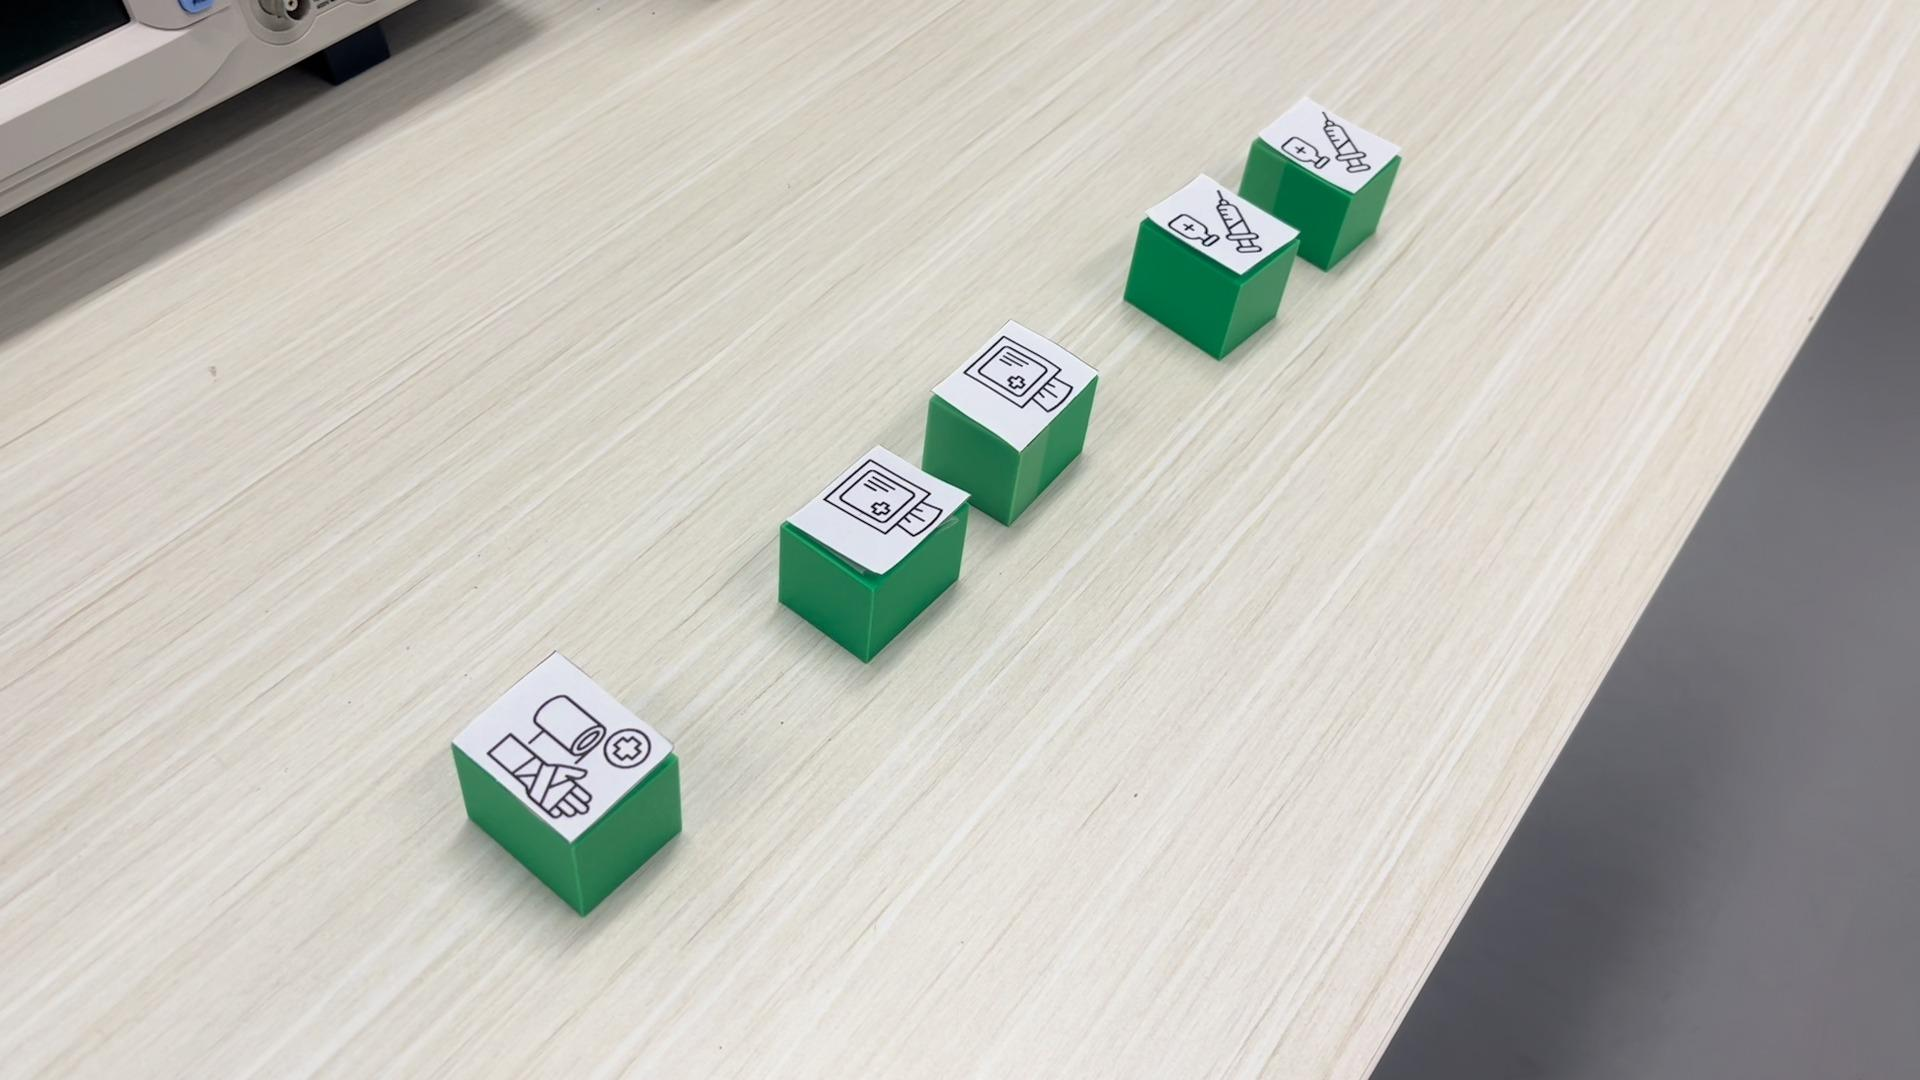Bandages: (446, 651, 683, 913)
Gauze: (775, 444, 967, 662), (923, 318, 1101, 525)
antiseptic cream: (1122, 174, 1300, 360), (1238, 96, 1402, 272)
